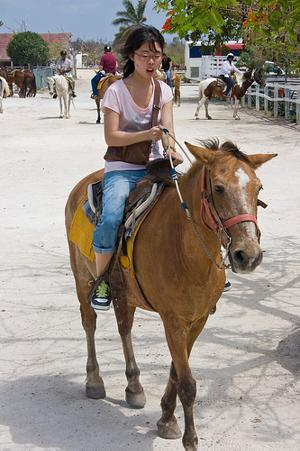person: (90, 26, 184, 312)
